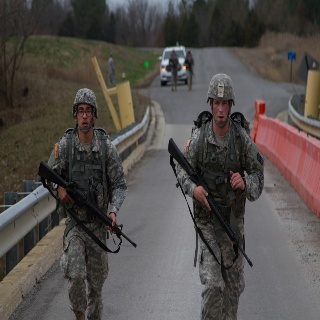rifle: (167, 137, 254, 270), (36, 159, 140, 249)
